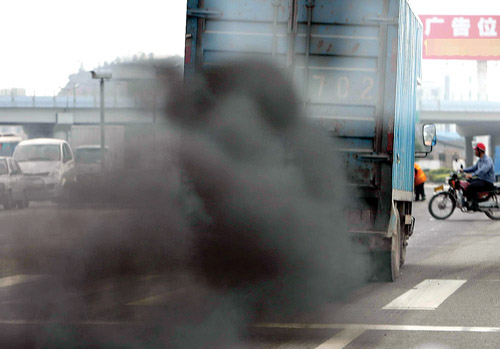smoke: (42, 65, 362, 349)
